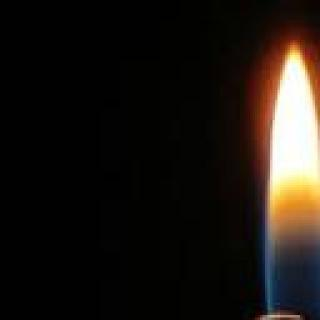fire: (267, 43, 320, 320)
